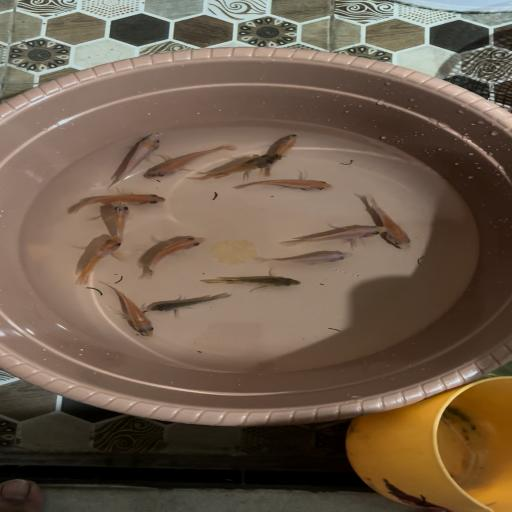nila: (93, 284, 165, 338), (138, 144, 234, 184), (110, 129, 168, 188), (363, 194, 421, 252), (69, 235, 129, 288), (138, 232, 208, 276), (189, 153, 285, 185), (54, 191, 168, 215), (146, 290, 236, 319), (287, 224, 384, 248), (250, 134, 304, 176), (231, 176, 336, 197), (198, 271, 306, 291), (254, 248, 354, 269), (102, 202, 136, 241)
